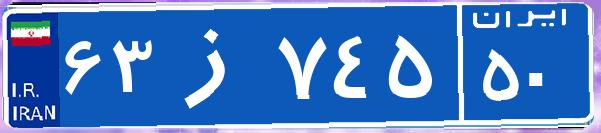0: (525, 38, 570, 115)
3: (110, 28, 158, 105)
4: (330, 28, 385, 110)
5: (385, 28, 445, 110), (475, 38, 525, 113)
6: (57, 26, 110, 107)
7: (273, 28, 330, 110)
ز: (158, 15, 273, 115)
